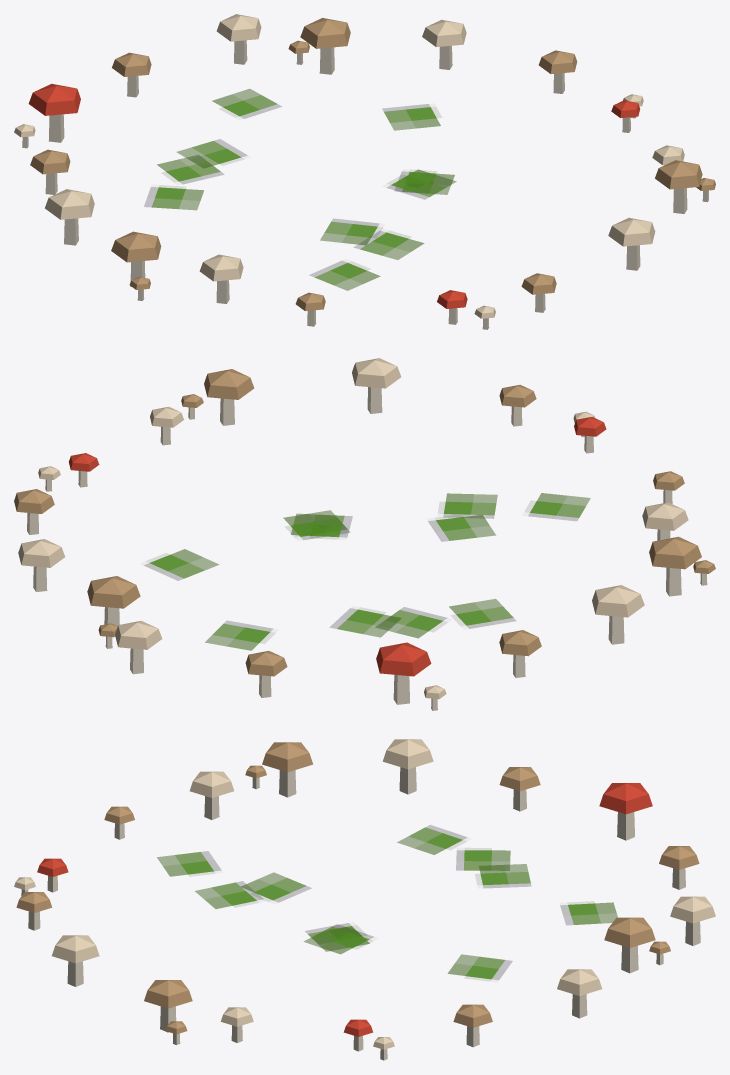
The model's file is mushroom_ring.glb.
3 views of the same model, one above another, from view 1: azimuth 30°, elevation 25°; view 2: azimuth 150°, elevation 25°; view 3: azimuth 270°, elevation 25° (orthographic). The views are drawn at different scales.
Visible parts, largest first — view 1: mushroom_ring_Clover_Leaf, mushroom_ring_Mushroom_Tan, mushroom_ring_Mushroom_Cream, mushroom_ring_Mushroom_Stem, mushroom_ring_Mushroom_Red; view 2: mushroom_ring_Clover_Leaf, mushroom_ring_Mushroom_Tan, mushroom_ring_Mushroom_Cream, mushroom_ring_Mushroom_Stem, mushroom_ring_Mushroom_Red; view 3: mushroom_ring_Clover_Leaf, mushroom_ring_Mushroom_Tan, mushroom_ring_Mushroom_Cream, mushroom_ring_Mushroom_Stem, mushroom_ring_Mushroom_Red.
Boxes of the visible parts, x1,y1,x2,y2 form: mushroom_ring_Clover_Leaf: [144, 89, 456, 290]; mushroom_ring_Mushroom_Tan: [30, 18, 715, 311]; mushroom_ring_Mushroom_Cream: [14, 14, 684, 318]; mushroom_ring_Mushroom_Stem: [22, 40, 708, 329]; mushroom_ring_Mushroom_Red: [28, 83, 639, 308]; mushroom_ring_Clover_Leaf: [144, 493, 590, 650]; mushroom_ring_Mushroom_Tan: [14, 369, 715, 676]; mushroom_ring_Mushroom_Cream: [18, 358, 688, 699]; mushroom_ring_Mushroom_Stem: [27, 387, 707, 710]; mushroom_ring_Mushroom_Red: [69, 417, 606, 676]; mushroom_ring_Clover_Leaf: [157, 825, 617, 979]; mushroom_ring_Mushroom_Tan: [16, 742, 699, 1034]; mushroom_ring_Mushroom_Cream: [14, 739, 715, 1049]; mushroom_ring_Mushroom_Stem: [21, 767, 700, 1060]; mushroom_ring_Mushroom_Red: [37, 783, 652, 1036].
Size of the model in its own units: 3.46 by 0.3066 by 3.64.
Materials: 5 (1 with a texture image).
